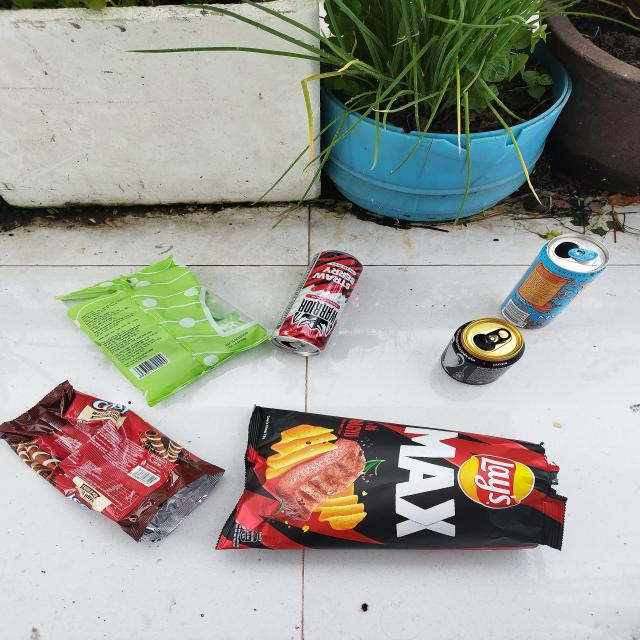can: (500, 233, 610, 329), (271, 250, 364, 356), (440, 318, 526, 386)
snack package: (215, 404, 568, 552), (0, 379, 226, 543), (54, 253, 273, 408)
